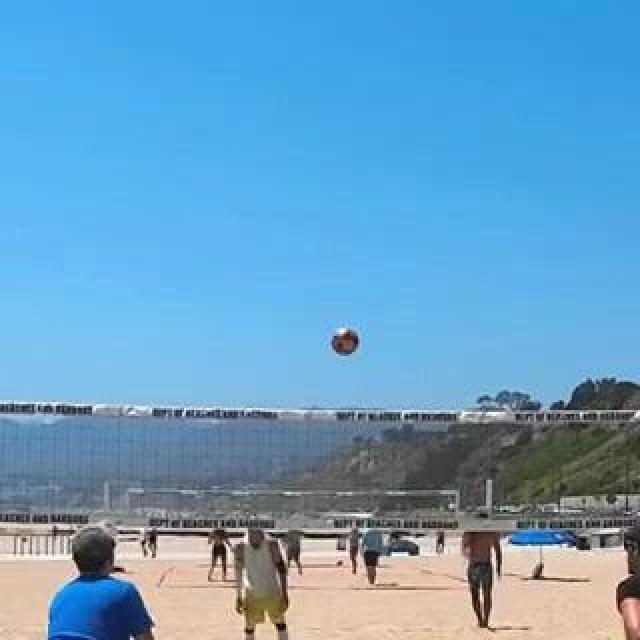volleyball: (331, 328, 359, 356)
